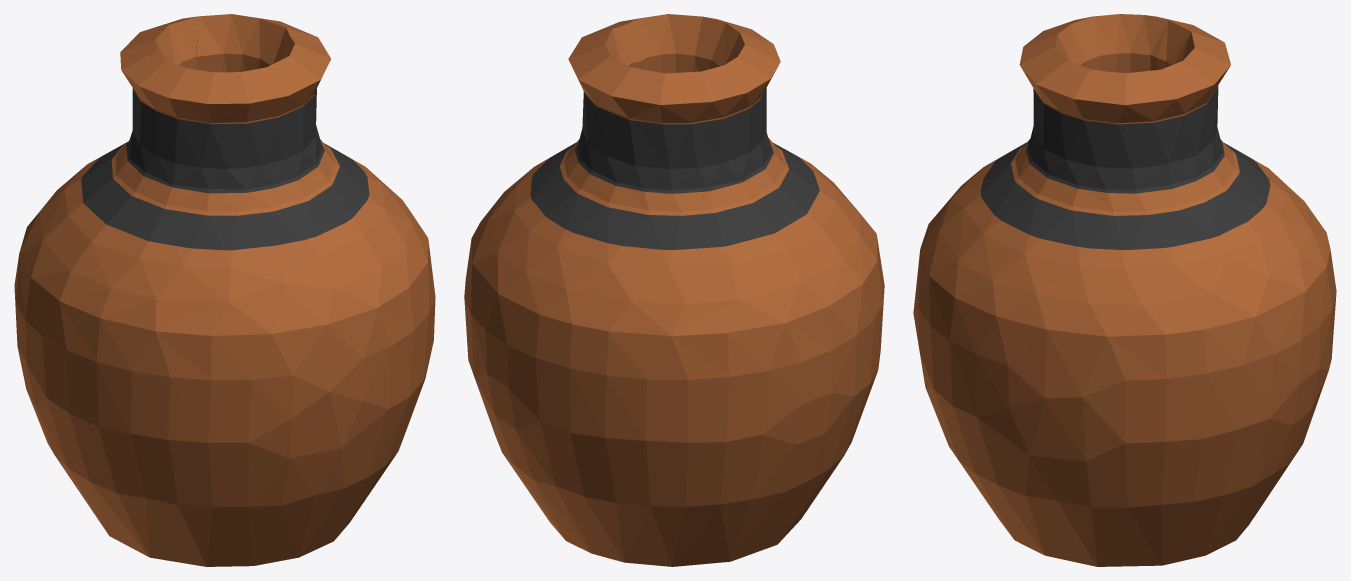
Rendered from Pottery 13_1b.fbx.
3 renders of one model, left to right at view 1: azimuth 30°, elevation 25°; view 2: azimuth 150°, elevation 25°; view 3: azimuth 270°, elevation 25°, orthographic.
Parts seen in each view (by area): view 1: Pottery 13_1b, Pottery 13_1b.004, Pottery 13_1b.003, Pottery 13_1b.002, Pottery 13_1b.008, Pottery 13_1b.009, Pottery 13_1b.001; view 2: Pottery 13_1b.009, Pottery 13_1b.002, Pottery 13_1b.007, Pottery 13_1b, Pottery 13_1b.008, Pottery 13_1b.006, Pottery 13_1b.001, Pottery 13_1b.003, Pottery 13_1b.004; view 3: Pottery 13_1b.004, Pottery 13_1b.008, Pottery 13_1b.006, Pottery 13_1b.001, Pottery 13_1b, Pottery 13_1b.009, Pottery 13_1b.002, Pottery 13_1b.003.
Part boxes in pixels (x1,y1,x2,y2): Pottery 13_1b: [35, 331, 423, 566]; Pottery 13_1b.004: [252, 36, 435, 418]; Pottery 13_1b.003: [77, 67, 287, 380]; Pottery 13_1b.002: [14, 40, 186, 405]; Pottery 13_1b.008: [196, 14, 400, 198]; Pottery 13_1b.009: [52, 16, 198, 195]; Pottery 13_1b.001: [197, 63, 365, 174]; Pottery 13_1b.009: [482, 67, 711, 440]; Pottery 13_1b.002: [694, 45, 873, 444]; Pottery 13_1b.007: [565, 352, 824, 528]; Pottery 13_1b: [521, 292, 884, 566]; Pottery 13_1b.008: [464, 24, 640, 357]; Pottery 13_1b.006: [468, 306, 604, 487]; Pottery 13_1b.001: [530, 93, 623, 232]; Pottery 13_1b.003: [693, 16, 884, 302]; Pottery 13_1b.004: [603, 14, 702, 73]; Pottery 13_1b.004: [913, 46, 1125, 416]; Pottery 13_1b.008: [1079, 48, 1305, 438]; Pottery 13_1b.006: [977, 328, 1328, 530]; Pottery 13_1b.001: [1083, 89, 1266, 249]; Pottery 13_1b: [921, 364, 1283, 566]; Pottery 13_1b.009: [1157, 20, 1336, 370]; Pottery 13_1b.002: [1092, 14, 1189, 73]; Pottery 13_1b.003: [931, 16, 1100, 220].
Size of the model in its own units: 53.04 by 65.33 by 53.14.
